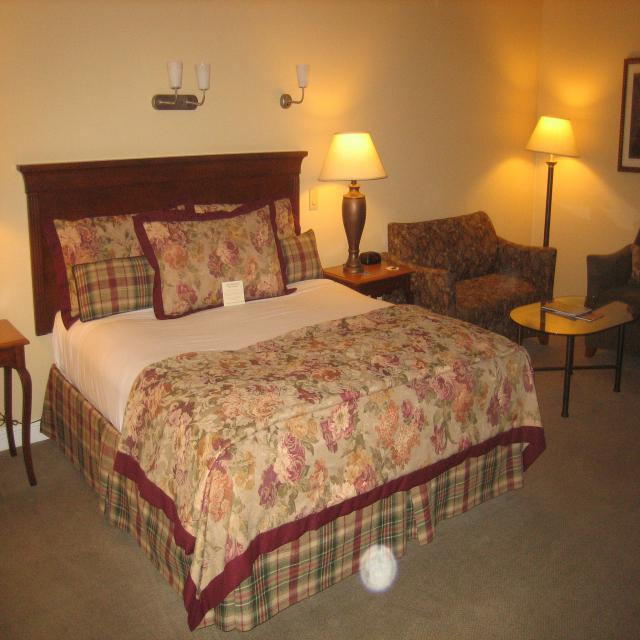bed -occluded-: (17, 148, 547, 634)
chair -occluded-: (388, 211, 555, 343)
coffee table: (509, 292, 637, 418)
floor -X: (0, 300, 640, 640)
lamp crop: (316, 132, 387, 275)
pillow occluded: (129, 195, 298, 320)
wall clock: (0, 1, 543, 453), (530, 1, 640, 324)
wall light: (151, 56, 211, 113)
